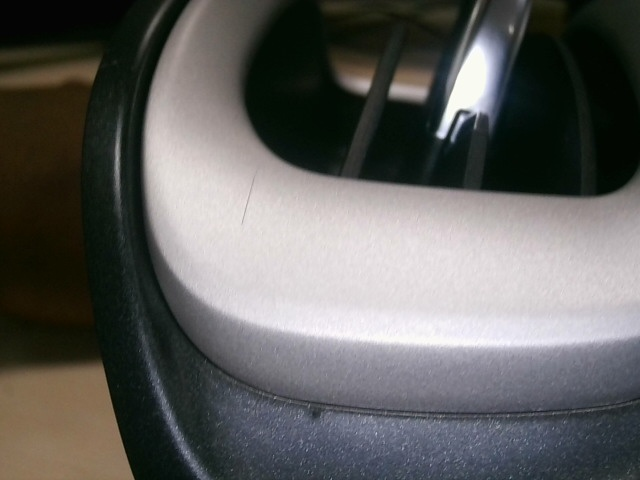NG: (234, 164, 273, 228), (93, 53, 125, 97)
